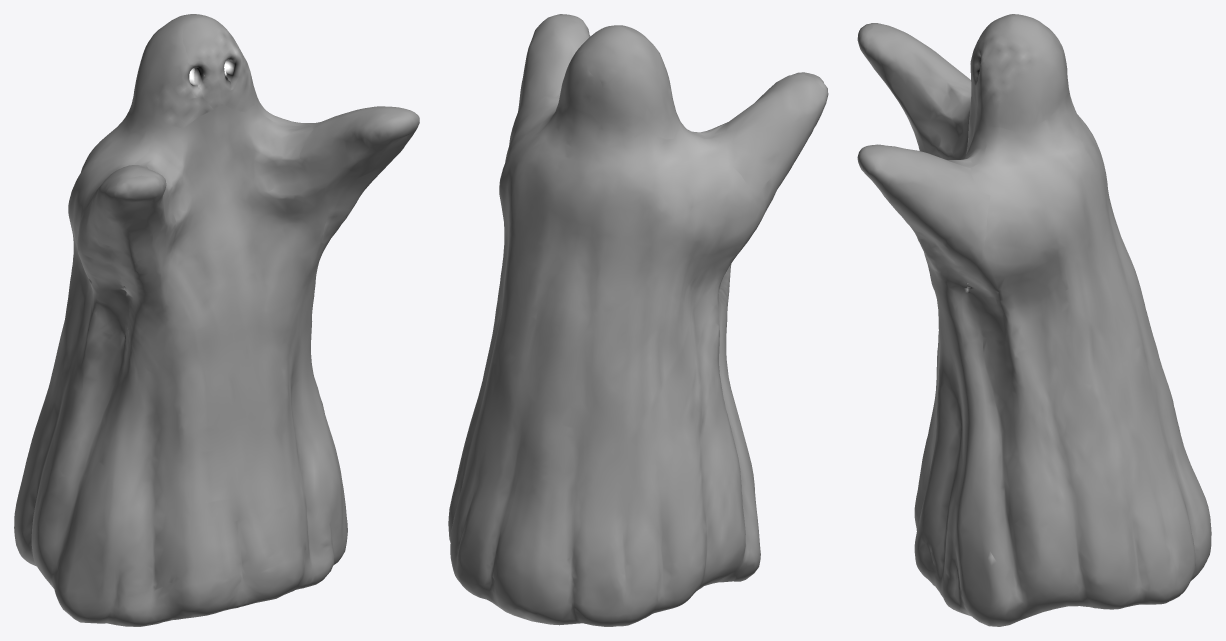
File: MZ4250 - Ghost extra spooky.glb
3 views of the same model, side by side, from view 1: azimuth 30°, elevation 25°; view 2: azimuth 150°, elevation 25°; view 3: azimuth 270°, elevation 25° (orthographic). The views are drawn at different scales.
Visible parts, largest first — view 1: ORGANIC BASE SPHERE.001; view 2: ORGANIC BASE SPHERE.001; view 3: ORGANIC BASE SPHERE.001.
Boxes of the visible parts, box(x1,y1,x2,y2) form: ORGANIC BASE SPHERE.001: box(14, 14, 419, 626); ORGANIC BASE SPHERE.001: box(448, 14, 828, 626); ORGANIC BASE SPHERE.001: box(857, 14, 1211, 626).
Bounding box in the file's own units: 47.48 × 83.04 × 48.27.
Materials: 1 (1 with a texture image).
